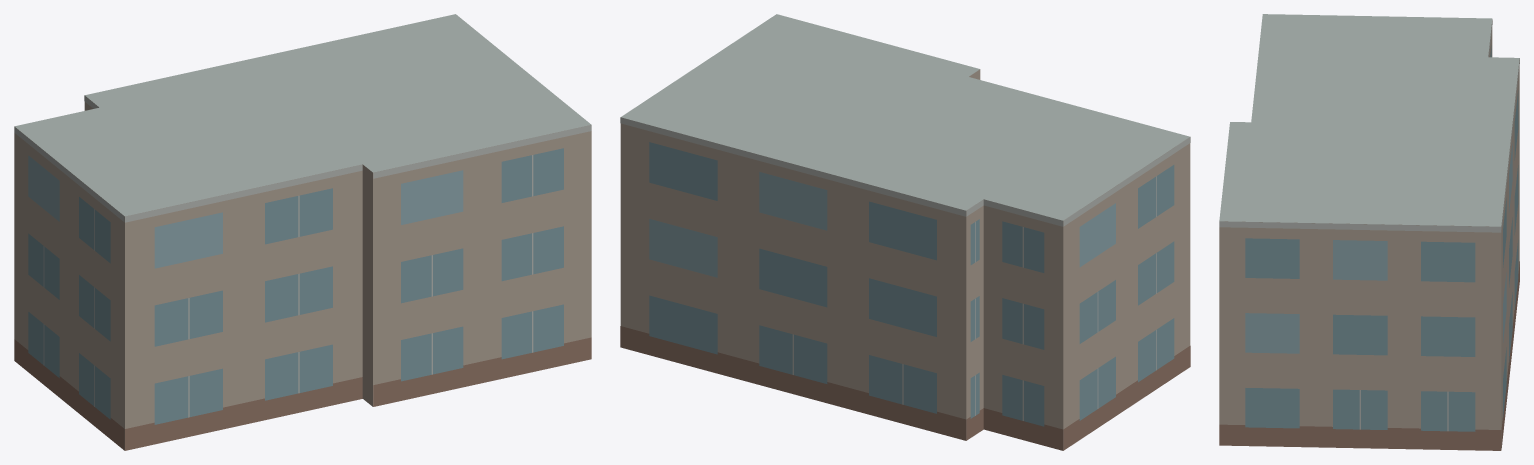
Rendered from survey-upis-32753893.glb.
The picture shows the model from 3 angles, left to right: view 1: azimuth 30°, elevation 25°; view 2: azimuth 150°, elevation 25°; view 3: azimuth 270°, elevation 25°; orthographic projection. The views are drawn at different scales.
Parts seen in each view (by area): view 1: survey-upis-32753893.tmp; view 2: survey-upis-32753893.tmp; view 3: survey-upis-32753893.tmp.
Boxes of the visible parts, left/top/right/bottom form: survey-upis-32753893.tmp: left=14, top=14, right=591, bottom=450; survey-upis-32753893.tmp: left=620, top=14, right=1190, bottom=450; survey-upis-32753893.tmp: left=1219, top=14, right=1519, bottom=450.
Size of the model in its own units: 18.62 by 9.15 by 11.12.
